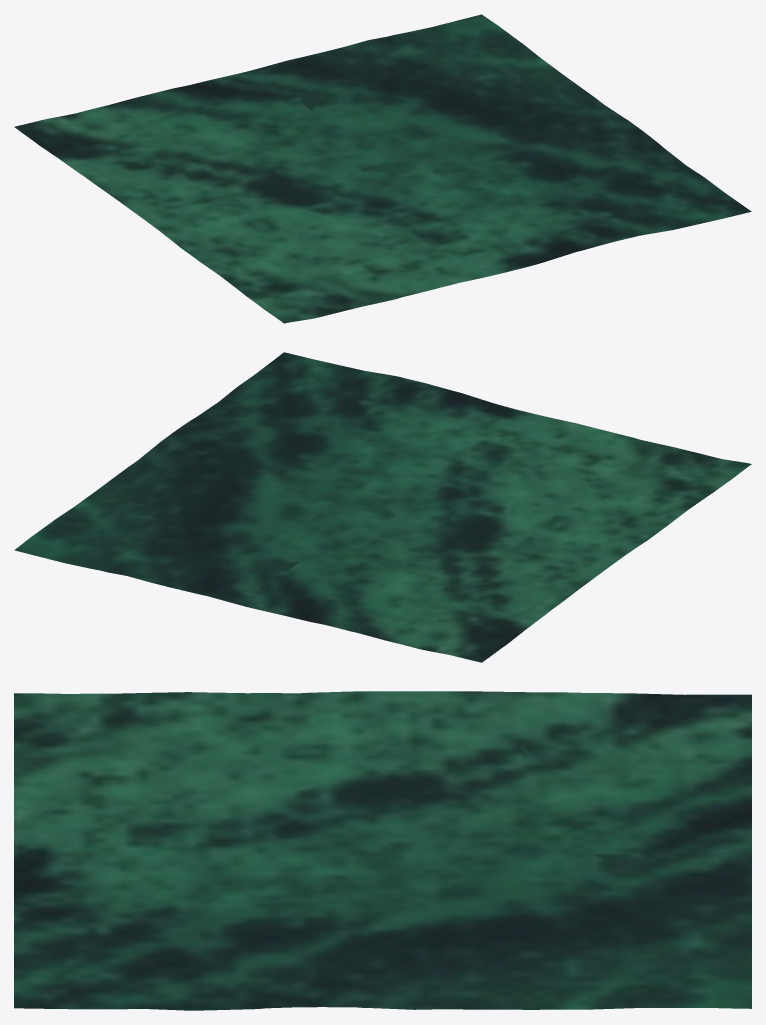
3 renders of one model, top to bottom at view 1: azimuth 30°, elevation 25°; view 2: azimuth 150°, elevation 25°; view 3: azimuth 270°, elevation 25°, orthographic. The views are drawn at different scales.
Bounding box in the file's own units: 52.22 × 0.6311 × 52.22.
2 materials, 2 textured.
